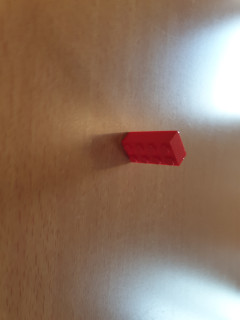2x4 red: (121, 130, 188, 167)
